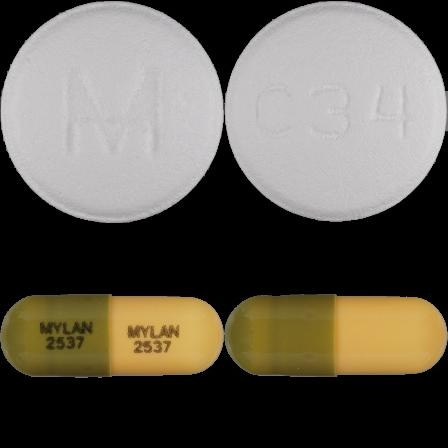51079-932: (0, 0, 224, 224)
